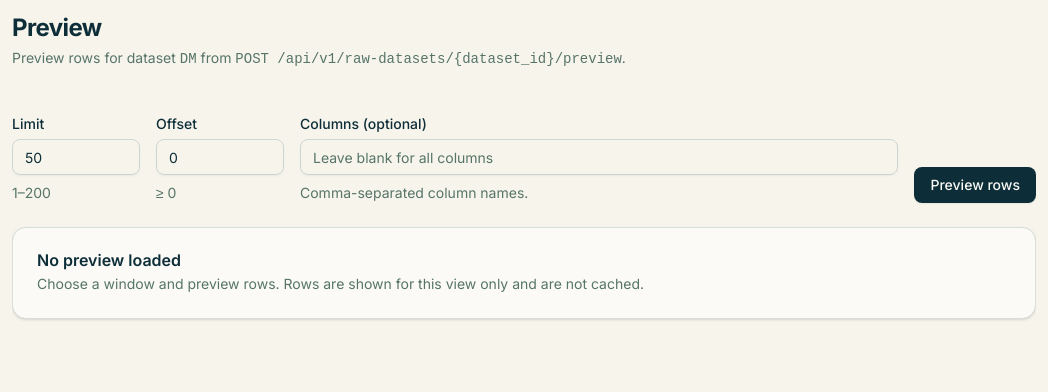
Preview clamping and rendering (Req 5.1, 5.4, 5.5) › clamps out-of-range limit/offset BEFORE sending and renders rows + the window summary
Note: Over-ceiling limit and negative offset are clamped on submit (R5.1-5.3).
Replace the text in the field labelled "Limit" with "5000" at [76, 157], box [12,139,140,175]
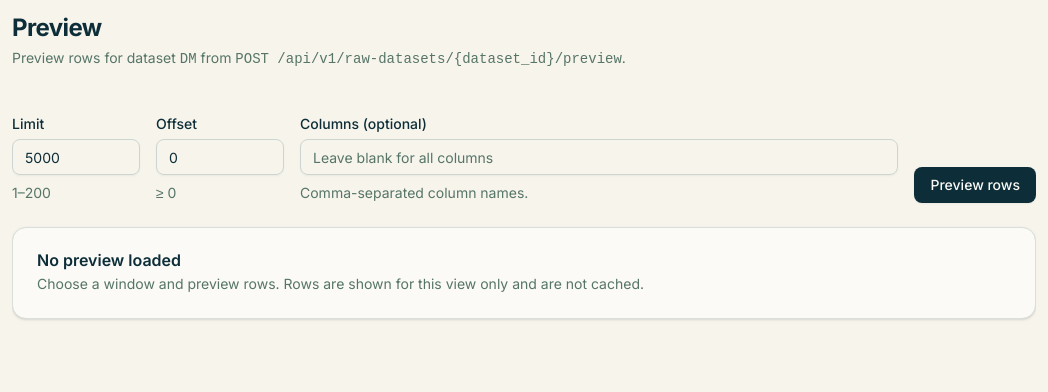
Replace the text in the field labelled "Offset" with "-3" at [220, 157], box [156,139,284,175]
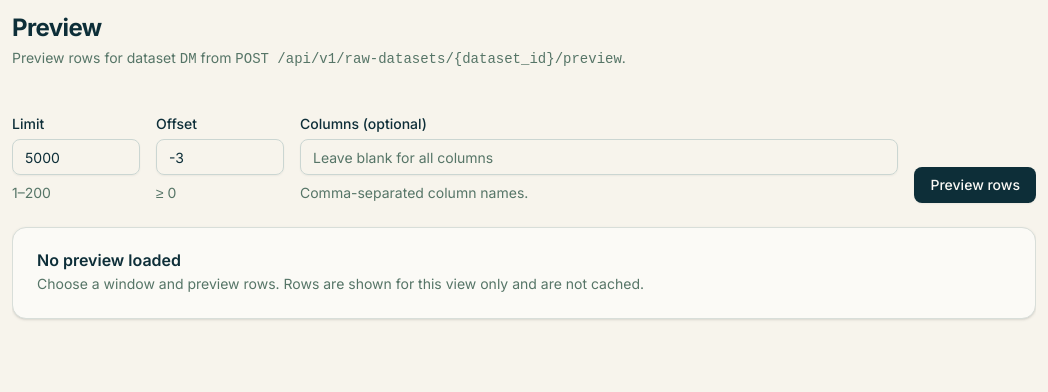
Click the button "Preview rows".
click(975, 185)  # box [914,167,1036,203]
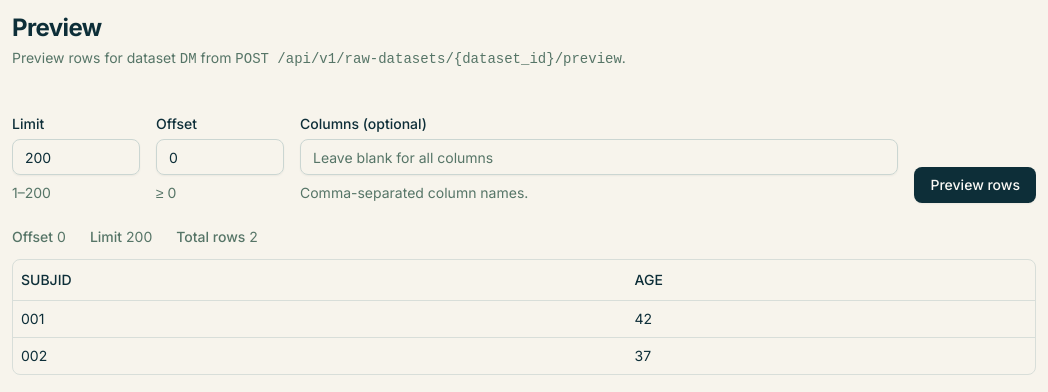
Expected: the text "001" is shown, [13,300,626,337]
Expected: the text "002" is shown, [13,337,626,374]
Expected: the text "Offset" is shown, [12,227,53,247]
